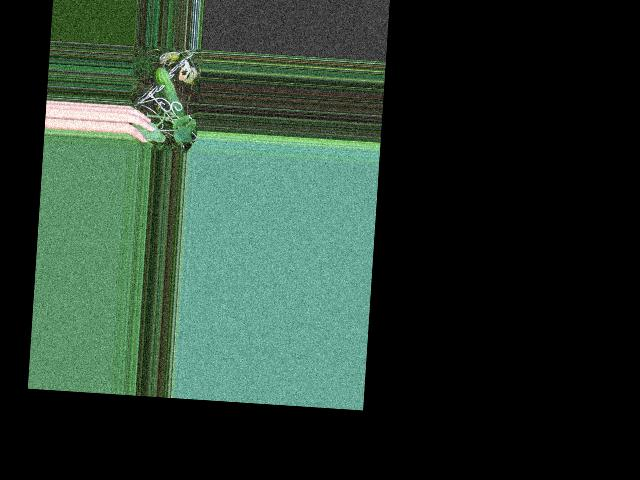cucumber: (151, 67, 187, 118)
